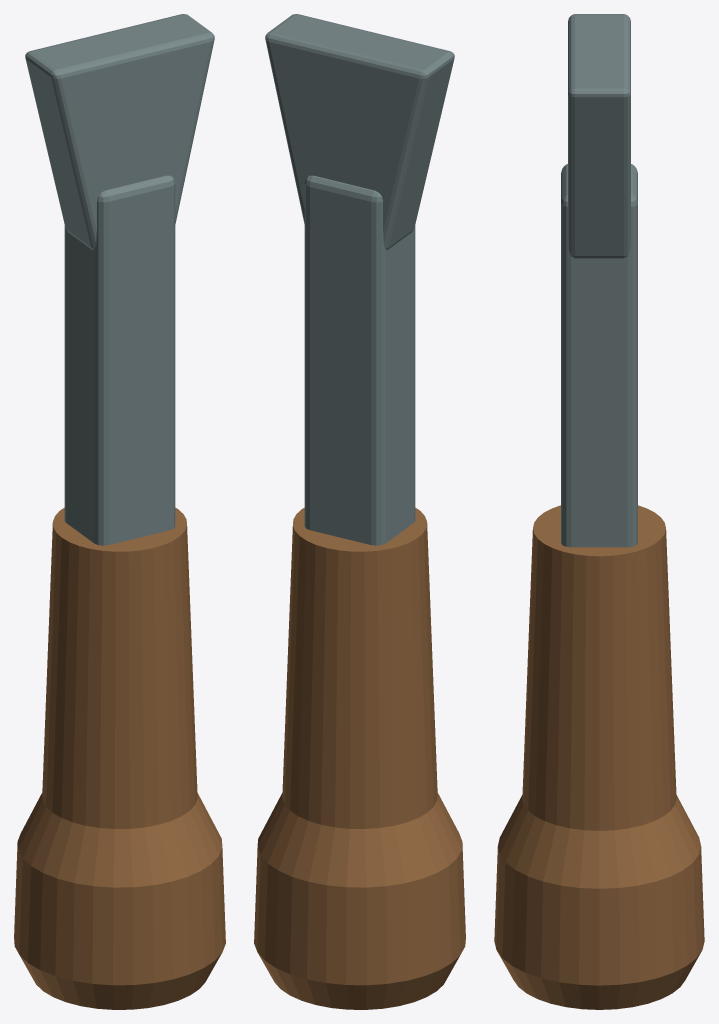
Rendered from HAND_CHISEL.hi.glb.
3 renders of one model, left to right at view 1: azimuth 30°, elevation 25°; view 2: azimuth 150°, elevation 25°; view 3: azimuth 270°, elevation 25°, orthographic.
Parts seen in each view (by area): view 1: Body_Mesh; view 2: Body_Mesh; view 3: Body_Mesh.
Boxes of the visible parts, bbox=[...] form: Body_Mesh: bbox=[14, 14, 225, 1009]; Body_Mesh: bbox=[254, 14, 465, 1009]; Body_Mesh: bbox=[494, 14, 704, 1009].
Bounding box in the file's own units: 0.06 × 0.29 × 0.06.
Materials: 1 (1 with a texture image).
